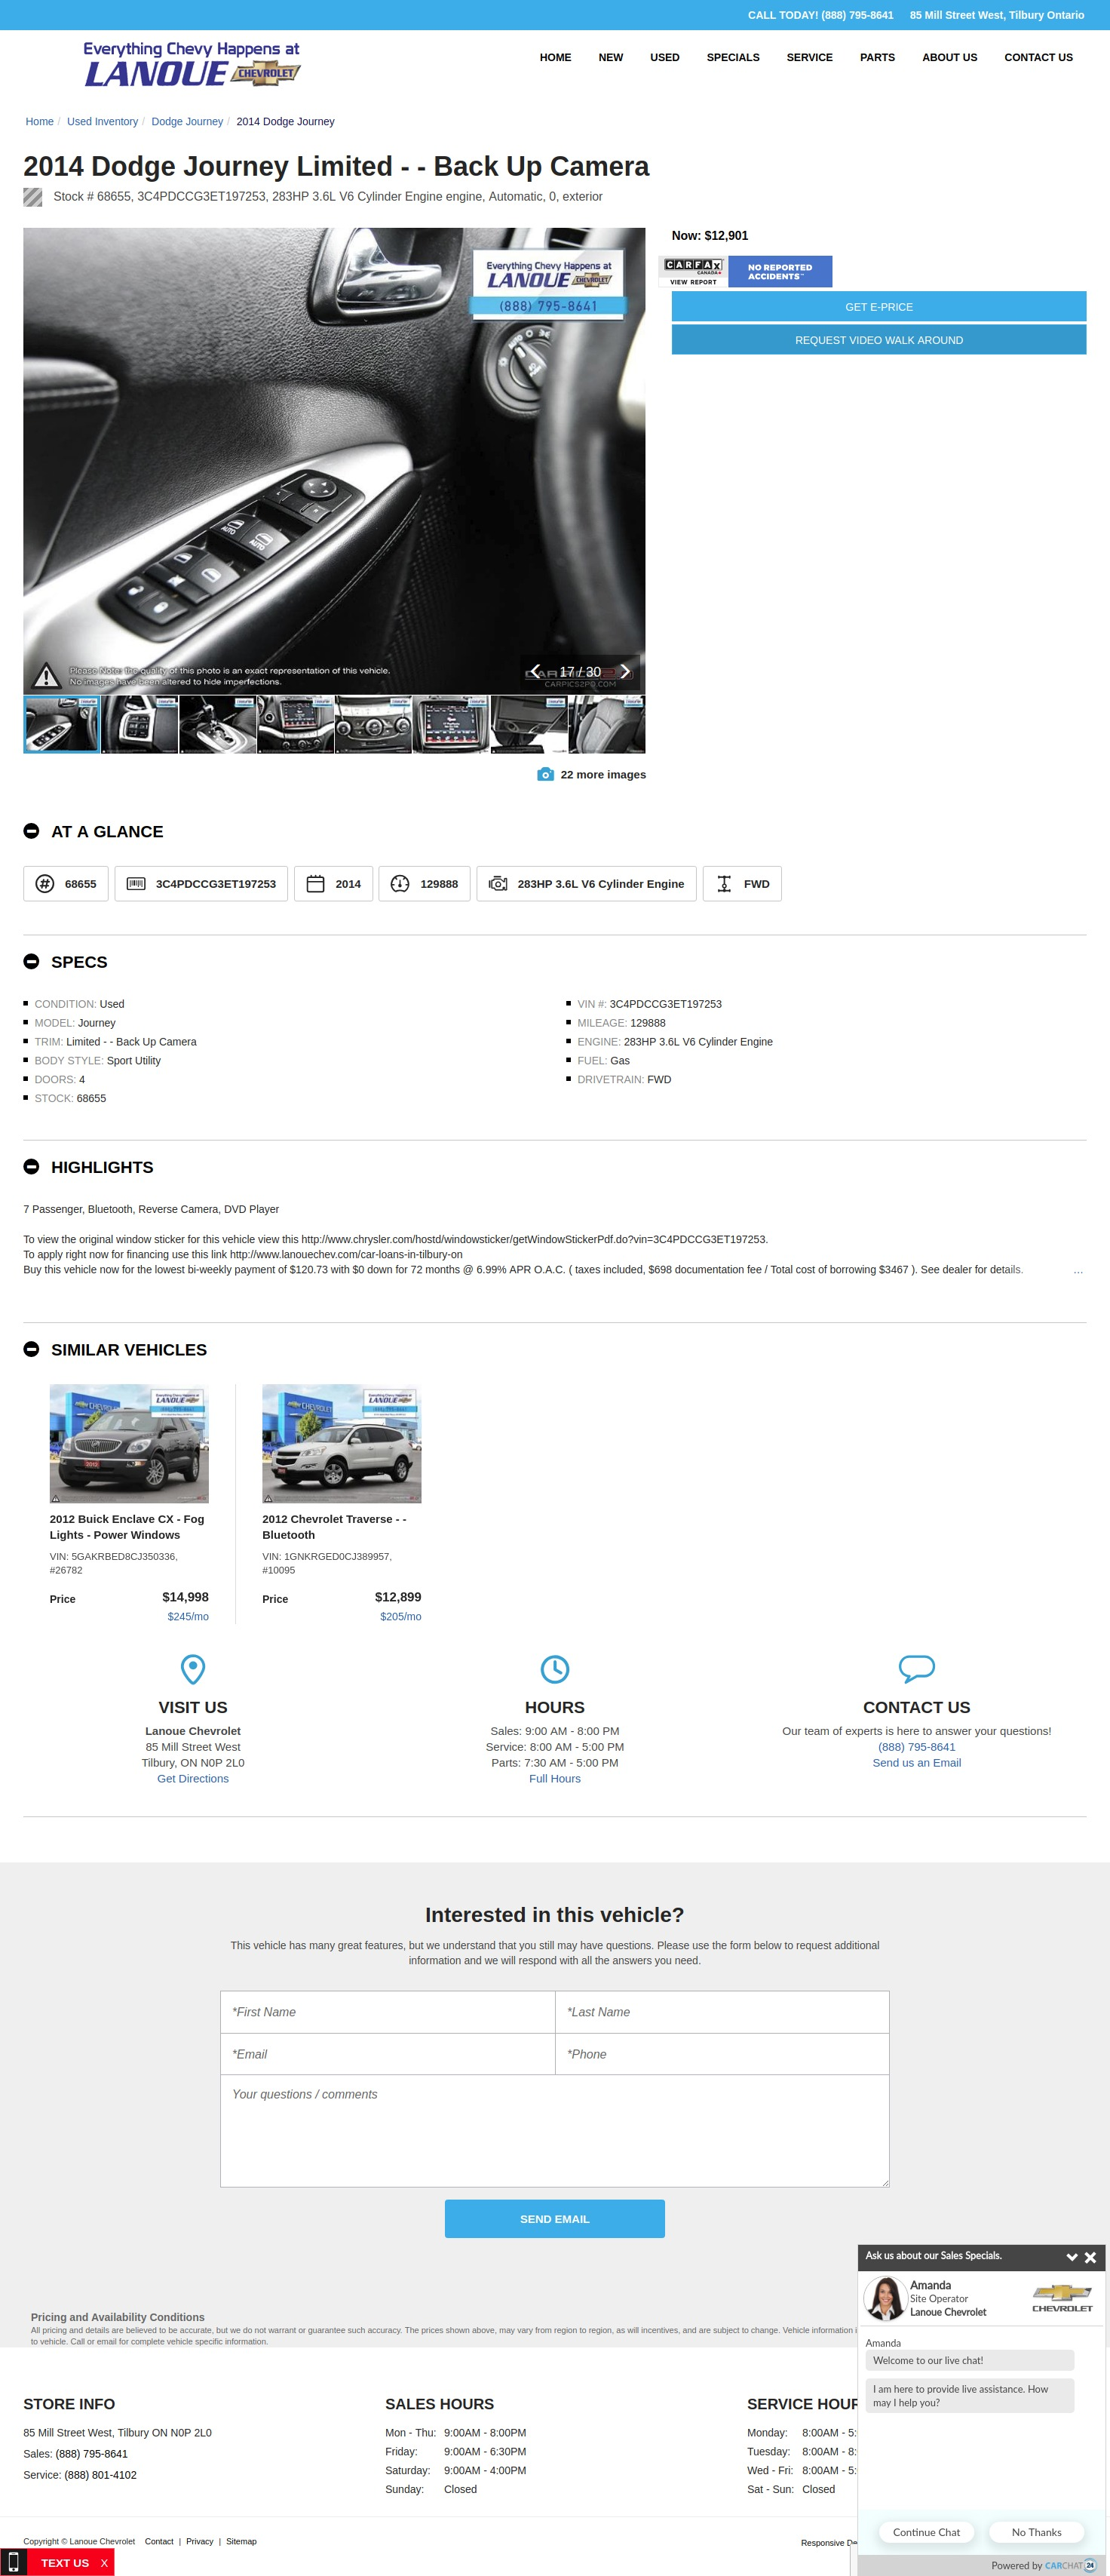car: (619, 665, 631, 682)
